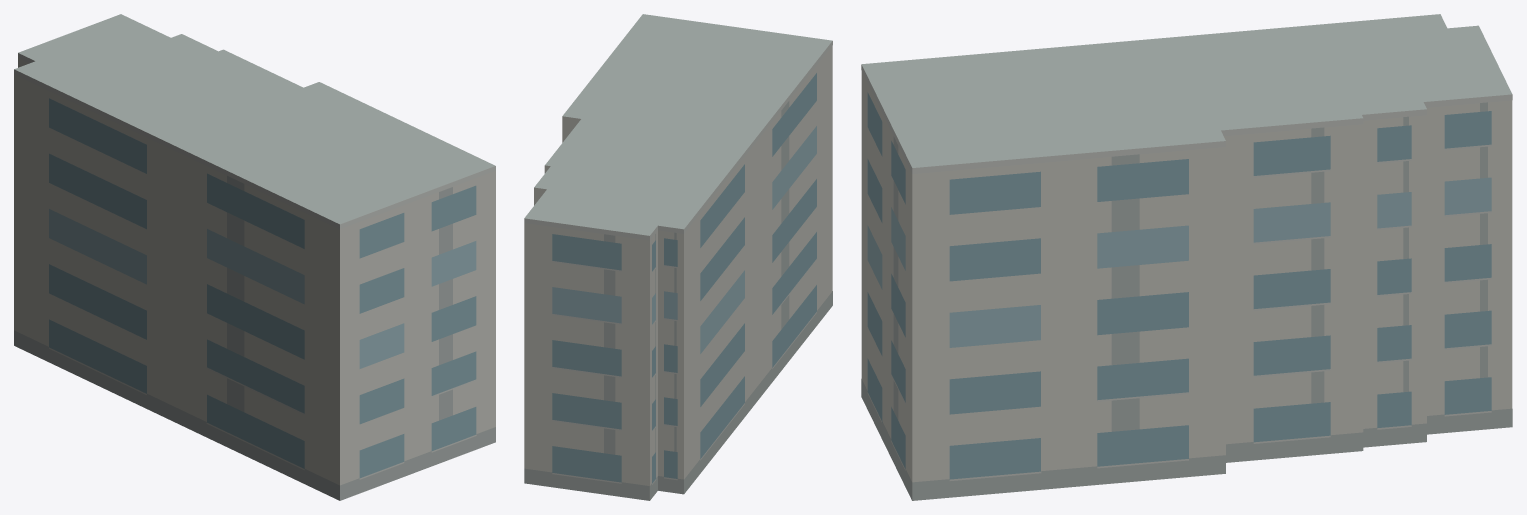
The model's file is survey-upis-32620162.glb.
3 views of the same model, side by side, from view 1: azimuth 30°, elevation 25°; view 2: azimuth 150°, elevation 25°; view 3: azimuth 270°, elevation 25° (orthographic). The views are drawn at different scales.
Visible parts, largest first — view 1: survey-upis-32620162.tmp; view 2: survey-upis-32620162.tmp; view 3: survey-upis-32620162.tmp.
Boxes of the visible parts, x1=… form: survey-upis-32620162.tmp: x1=14, y1=14, x2=495, y2=500; survey-upis-32620162.tmp: x1=524, y1=14, x2=832, y2=500; survey-upis-32620162.tmp: x1=861, y1=14, x2=1512, y2=500.
Bounding box in the file's own units: 13.71 × 13.8 × 24.48.
